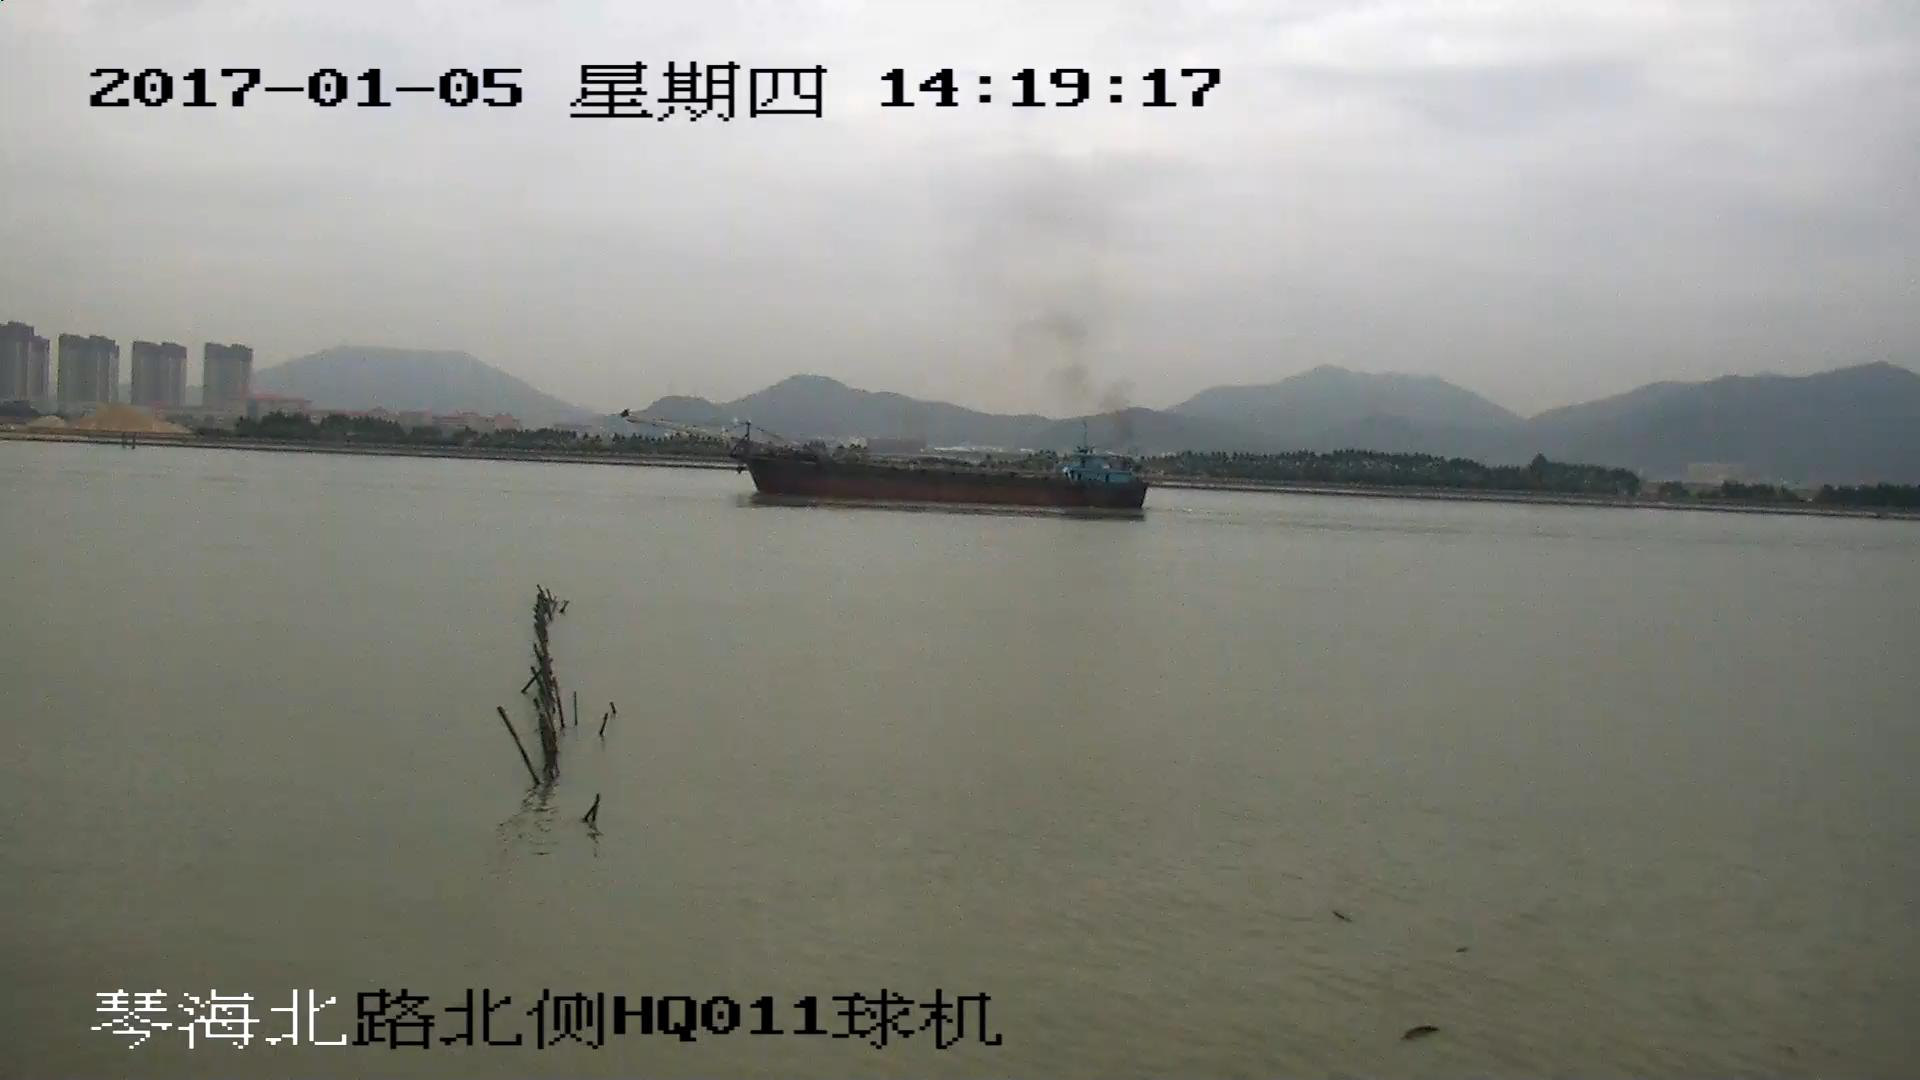bulk cargo carrier: (622, 410, 1145, 507)
